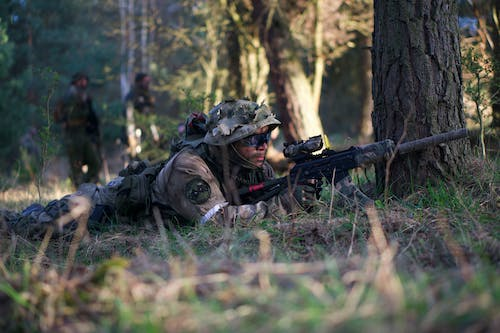gun: (227, 124, 472, 215)
